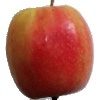apple: (4, 3, 95, 100)
